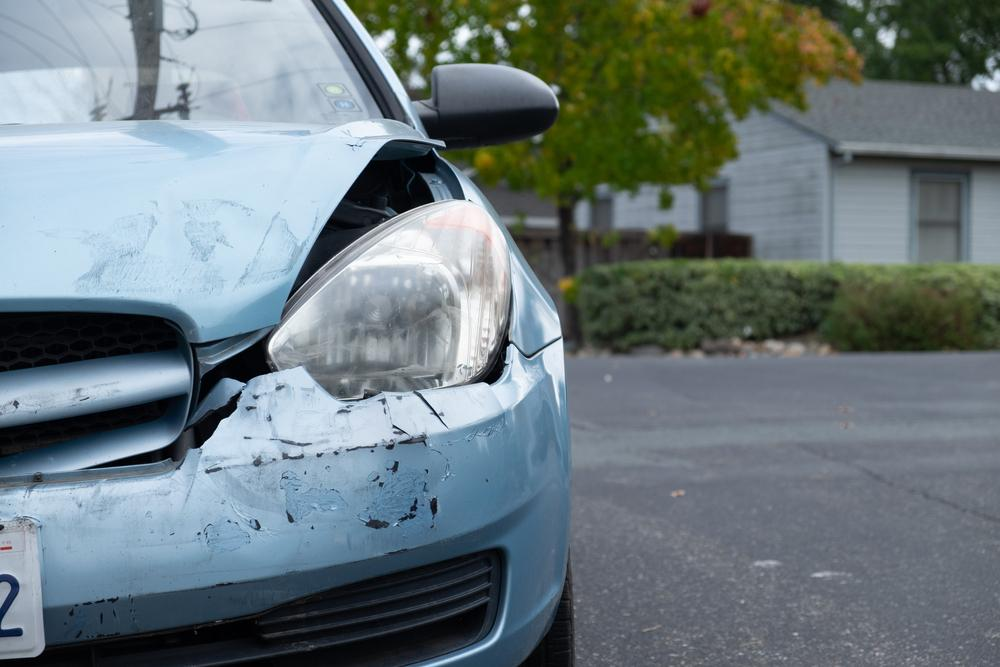crack: (412, 390, 451, 430)
scratch: (185, 369, 466, 557), (56, 185, 308, 298)
